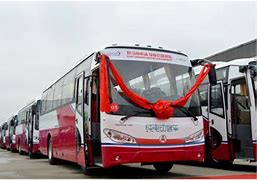bigcar: (37, 38, 211, 176)
